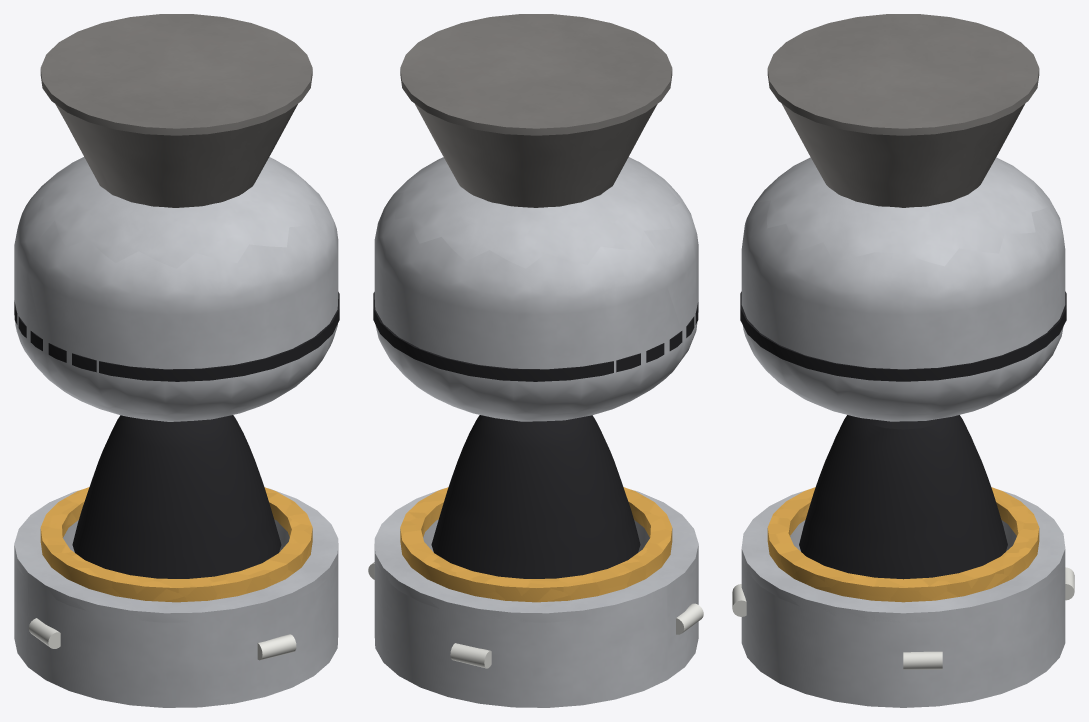
The model's file is prop23_kick_motor_spin.glb.
3 renders of one model, left to right at view 1: azimuth 30°, elevation 25°; view 2: azimuth 150°, elevation 25°; view 3: azimuth 270°, elevation 25°, orthographic.
Visible parts, largest first — view 1: case, forward_adapter, spin_table, nozzle, bearing, case_band, spin_rockets; view 2: case, forward_adapter, spin_table, nozzle, bearing, case_band, spin_rockets; view 3: case, forward_adapter, spin_table, nozzle, bearing, case_band, spin_rockets.
Part boxes in pixels (<box>): case: <box>14,157,338,421</box>; forward_adapter: <box>40,14,312,207</box>; spin_table: <box>14,488,338,707</box>; nozzle: <box>72,415,281,578</box>; bearing: <box>40,487,312,602</box>; case_band: <box>14,292,339,381</box>; spin_rockets: <box>28,618,296,660</box>; case: <box>374,157,698,421</box>; forward_adapter: <box>400,14,672,207</box>; spin_table: <box>374,488,698,707</box>; nozzle: <box>431,415,640,578</box>; bearing: <box>400,487,672,602</box>; case_band: <box>373,292,698,381</box>; spin_rockets: <box>368,562,703,668</box>; case: <box>741,157,1065,421</box>; forward_adapter: <box>767,14,1039,207</box>; spin_table: <box>741,491,1065,707</box>; nozzle: <box>799,415,1007,579</box>; bearing: <box>767,487,1039,602</box>; case_band: <box>740,291,1066,381</box>; spin_rockets: <box>732,567,1074,669</box>.
Bounding box in the file's own units: 1.31 × 2.4 × 1.31.
5 materials, 3 textured.
